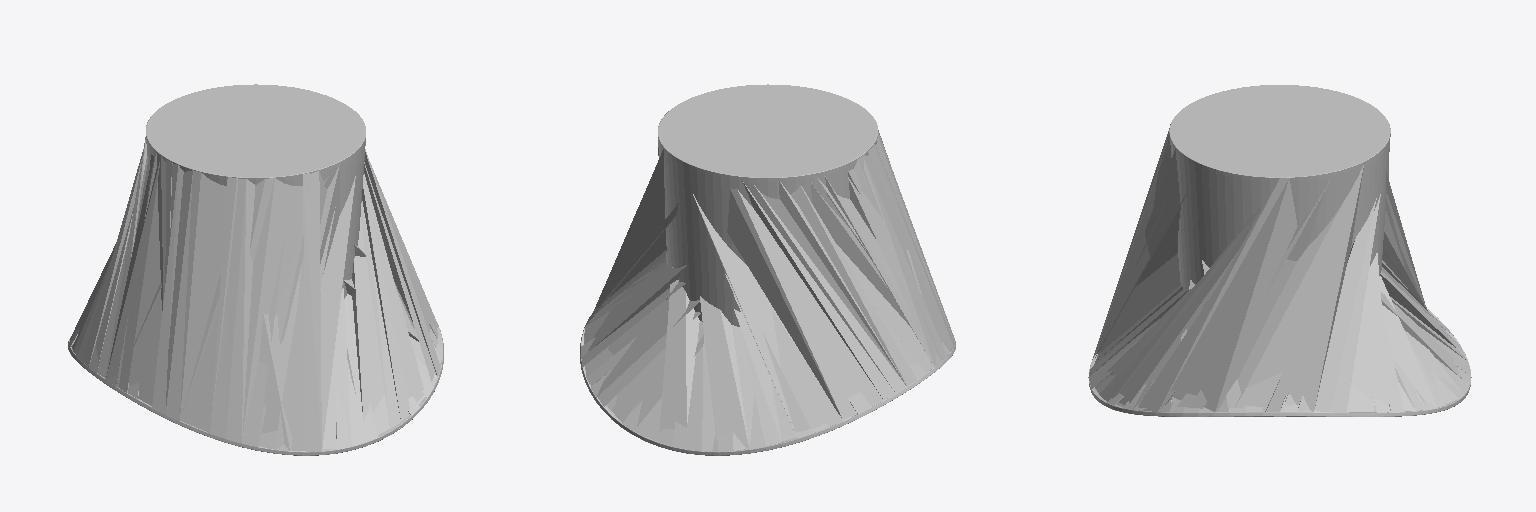
Rendered from s_copa.obj.
3 renders of one model, left to right at view 1: azimuth 30°, elevation 25°; view 2: azimuth 150°, elevation 25°; view 3: azimuth 270°, elevation 25°, orthographic.
Visible parts, largest first — view 1: tape, hat; view 2: tape, hat; view 3: tape, hat.
Boxes of the visible parts, x1=… form: tape: x1=69, y1=85, x2=442, y2=452; hat: x1=68, y1=84, x2=443, y2=455; tape: x1=581, y1=86, x2=954, y2=455; hat: x1=580, y1=84, x2=955, y2=455; tape: x1=1089, y1=86, x2=1471, y2=416; hat: x1=1088, y1=85, x2=1470, y2=416.
Bounding box in the file's own units: 32.19 × 23.94 × 33.28.